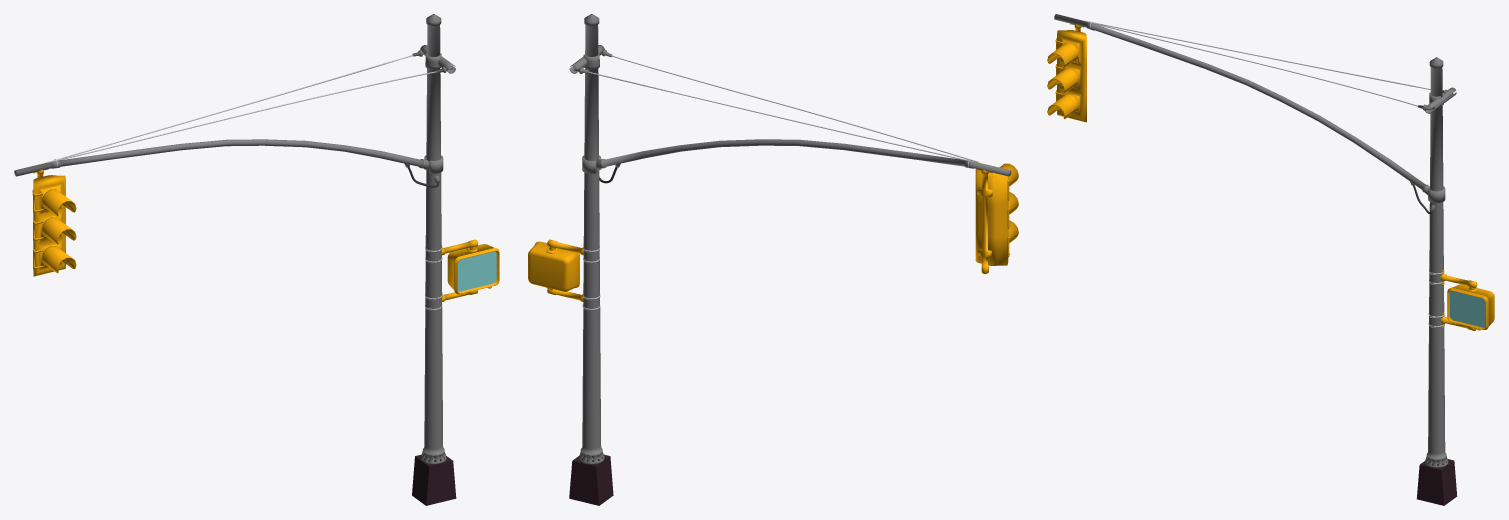
Rendered from traffic_light_01.fbx.
3 views of the same model, side by side, from view 1: azimuth 30°, elevation 25°; view 2: azimuth 150°, elevation 25°; view 3: azimuth 330°, elevation 25° (orthographic). The views are drawn at different scales.
Visible parts, largest first — view 1: traffic_light_01; view 2: traffic_light_01; view 3: traffic_light_01.
Boxes of the visible parts, x1=… form: traffic_light_01: x1=14, y1=14, x2=499, y2=505; traffic_light_01: x1=528, y1=14, x2=1018, y2=505; traffic_light_01: x1=1047, y1=14, x2=1494, y2=505.
Size of the model in its own units: 784 by 754 by 111.
